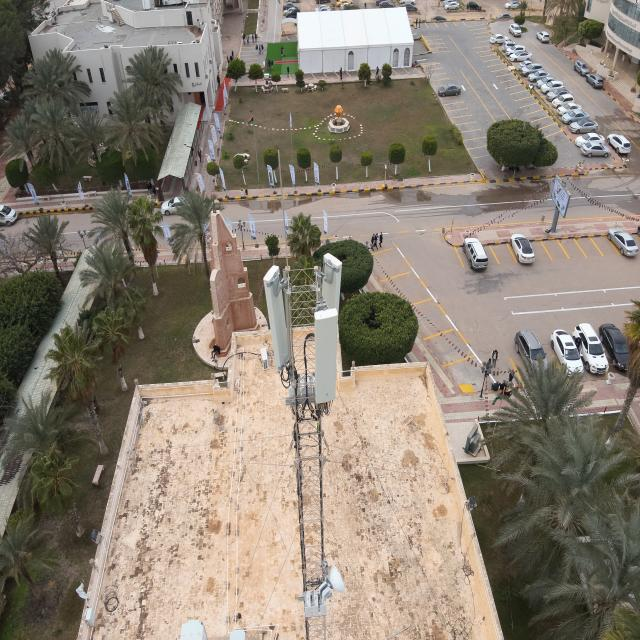antenna: (261, 262, 294, 371), (311, 306, 337, 404), (319, 250, 343, 308)
lighnig-rad: (277, 147, 291, 272)
microware-dish: (319, 564, 346, 598)
power-box: (300, 587, 330, 618)
radio-unit: (286, 374, 316, 401)
